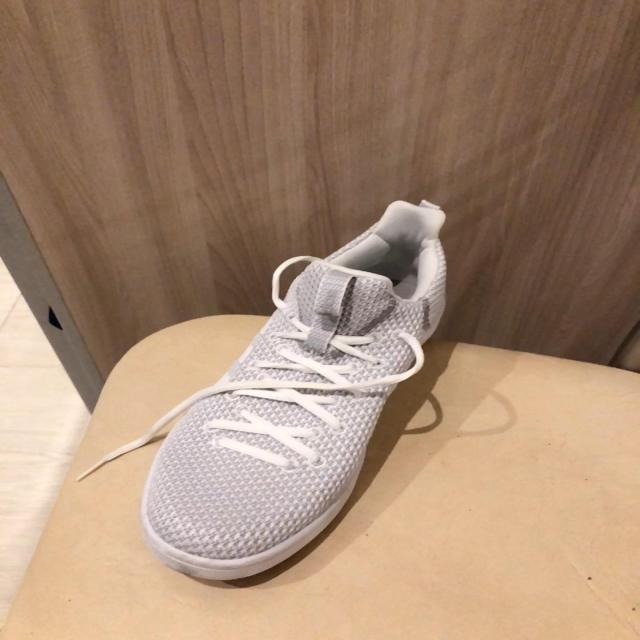shoe: (139, 202, 448, 590)
